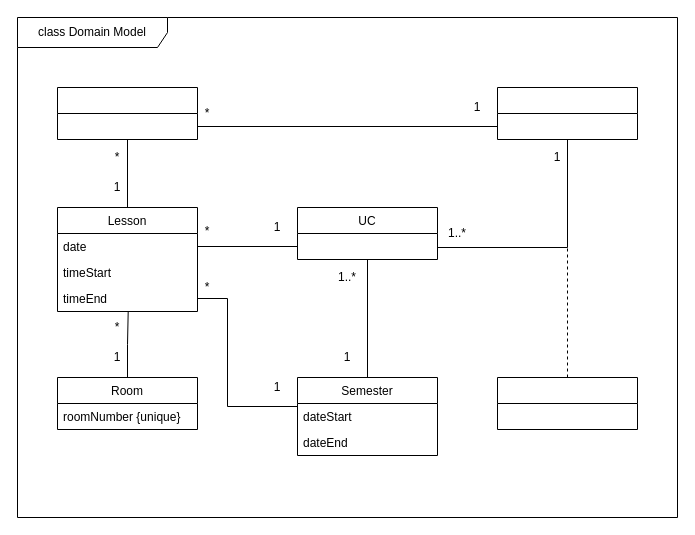
Image size: 695x535. Some labels were removed from this diagram. Here are the shapes that lost their labels. From the top down, the centre of each, then its label:
the point at 127,113: Notification
the point at 567,113: User
the point at 567,403: Class
